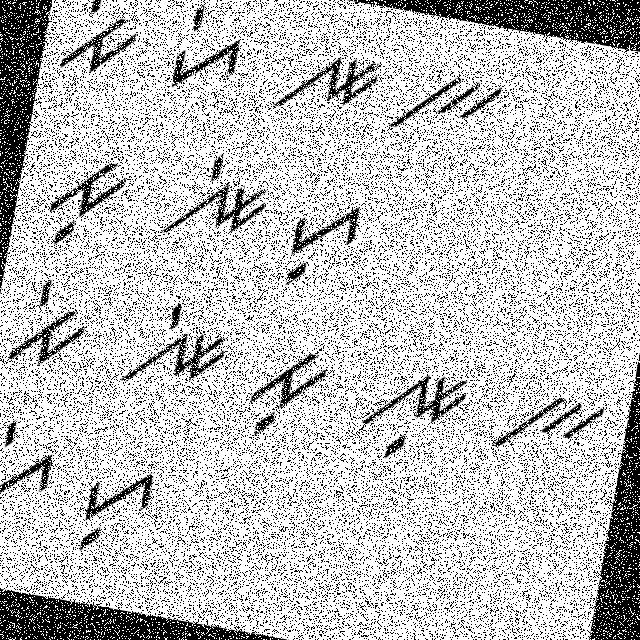he: (160, 0, 261, 111), (0, 406, 69, 519)
hu: (65, 438, 167, 565), (274, 172, 371, 300)
mbe: (0, 261, 97, 375), (49, 0, 152, 94)
mbu: (32, 140, 142, 262), (236, 324, 334, 449)
nda: (268, 31, 386, 124)
nde: (106, 283, 240, 412), (148, 137, 278, 258)
ndu: (342, 348, 473, 475)
